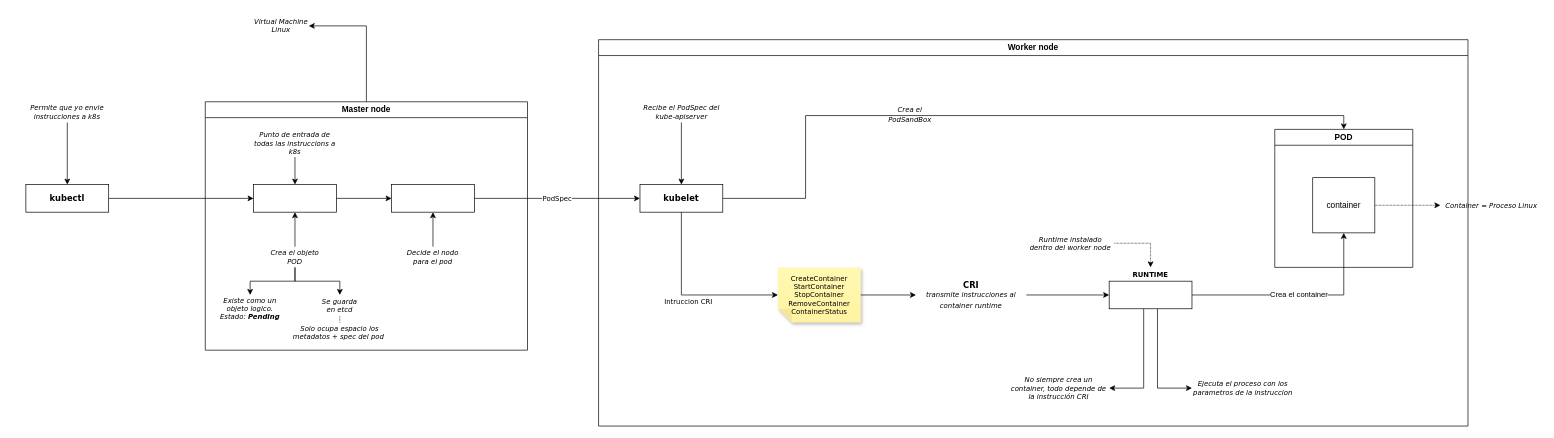
Image size: 1554x438. Some labels were removed from this diagram. The centre of each missing label's shape, as x and y in pixels:
"containerD" belongs at (1150,294).
"kube-apiserver" belongs at (294,198).
"kube-scheduler" belongs at (432,198).
